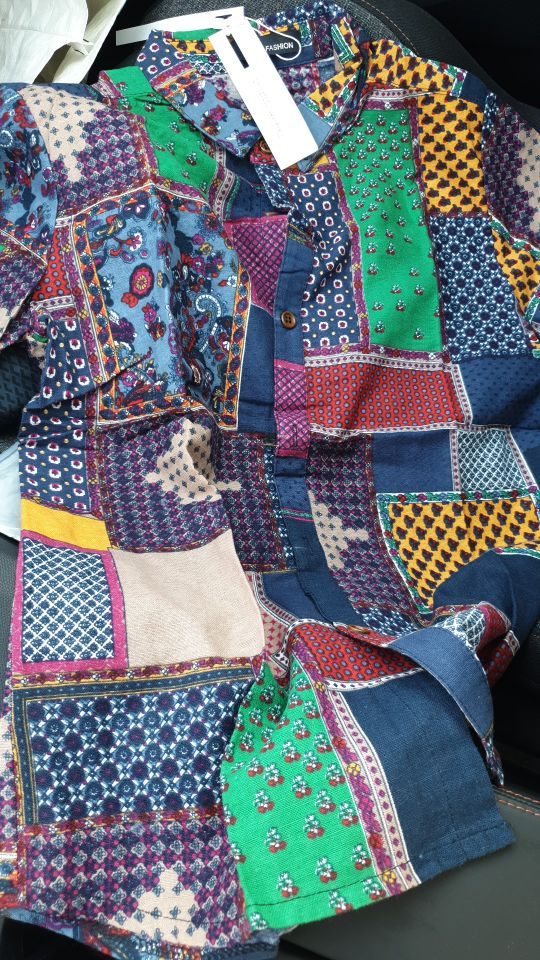shirts: (7, 7, 540, 913)
